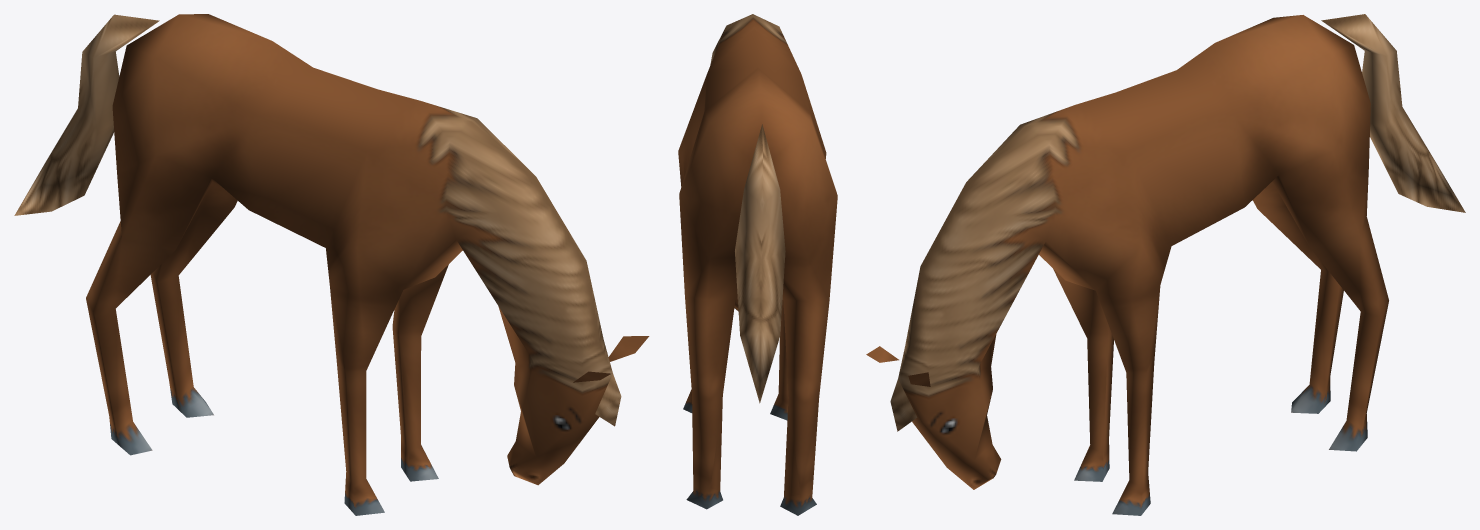
Rendered from horse.fbx.
3 views of the same model, side by side, from view 1: azimuth 30°, elevation 25°; view 2: azimuth 150°, elevation 25°; view 3: azimuth 270°, elevation 25° (orthographic). The views are drawn at different scales.
Parts seen in each view (by area): view 1: horse; view 2: horse; view 3: horse.
Part boxes in pixels (x1,y1,x2,y2): horse: [14, 14, 649, 515]; horse: [678, 14, 837, 515]; horse: [866, 14, 1465, 515].
Size of the model in its own units: 121 by 144 by 185.
Materials: 1 (1 with a texture image).
